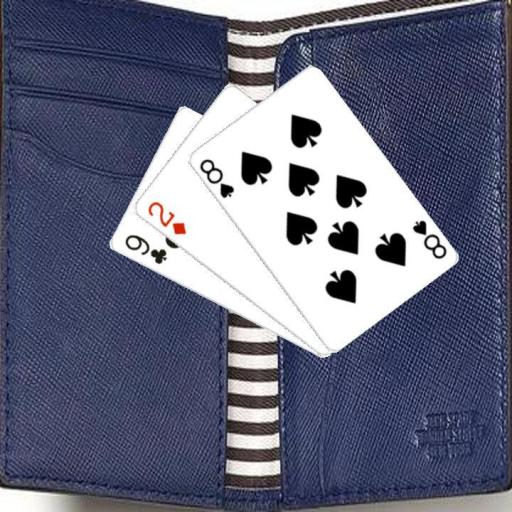2D: (144, 198, 188, 237)
8S: (196, 155, 236, 200), (408, 216, 448, 261)
9C: (121, 231, 168, 266)
